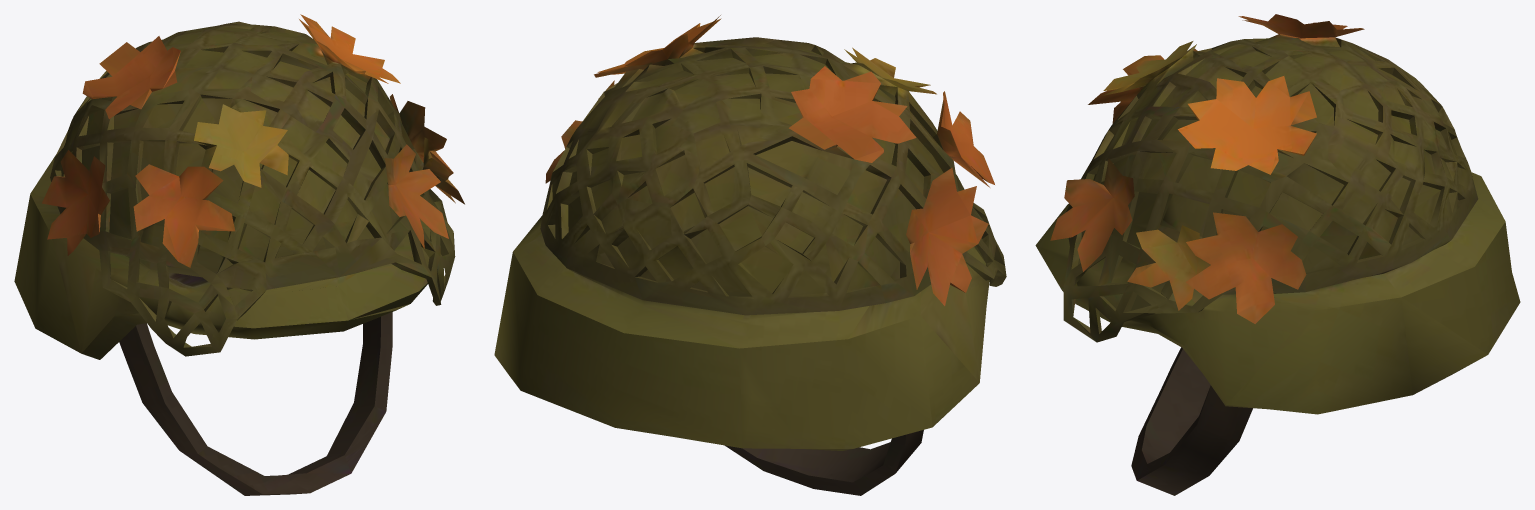
The model's file is hat_gr_net_idle.glb.
3 views of the same model, side by side, from view 1: azimuth 30°, elevation 25°; view 2: azimuth 150°, elevation 25°; view 3: azimuth 270°, elevation 25° (orthographic). The views are drawn at different scales.
Parts seen in each view (by area): view 1: hat_gr_net; view 2: hat_gr_net; view 3: hat_gr_net.
Part boxes in pixels (left/top/right/bottom): hat_gr_net: left=14, top=14, right=464, bottom=495; hat_gr_net: left=494, top=15, right=1006, bottom=495; hat_gr_net: left=1035, top=14, right=1520, bottom=495.
Size of the model in its own units: 0.2558 by 0.2835 by 0.2849.
Materials: 1 (1 with a texture image).
